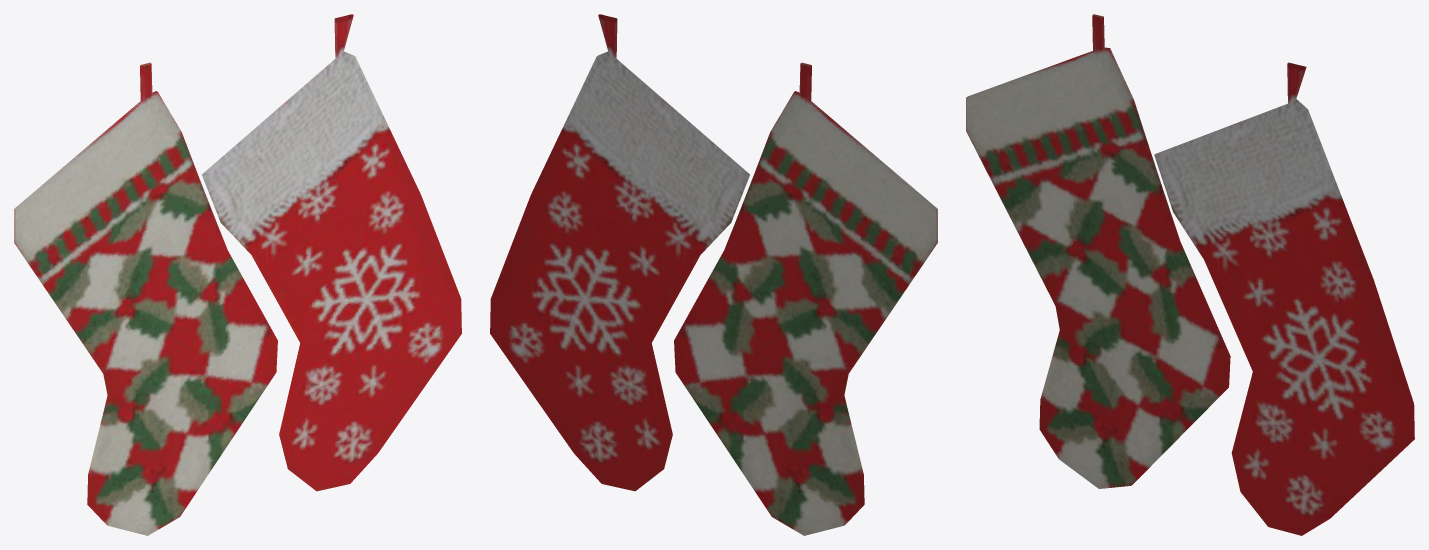
File: furni_0200211.FBX
3 views of the same model, side by side, from view 1: azimuth 30°, elevation 25°; view 2: azimuth 150°, elevation 25°; view 3: azimuth 330°, elevation 25° (orthographic).
Parts seen in each view (by area): view 1: furni_0200211; view 2: furni_0200211; view 3: furni_0200211.
Part boxes in pixels (x1,y1,x2,y2): furni_0200211: (14,14,461,535); furni_0200211: (490,14,937,535); furni_0200211: (966,14,1414,535).
Size of the model in its own units: 79.27 by 79.98 by 0.3397.
Materials: 1 (1 with a texture image).
